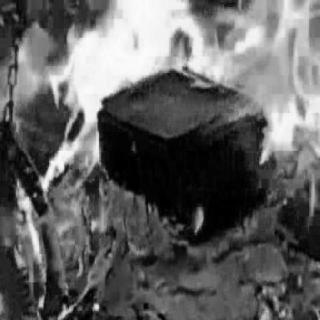Fire: (14, 3, 318, 281)
